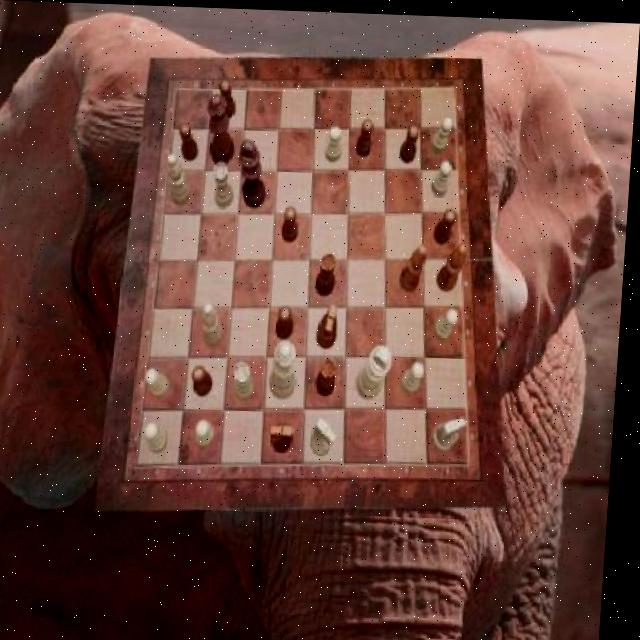bishop: (440, 240, 471, 290), (402, 241, 431, 290)
black-bishop: (238, 138, 272, 206)
black-king: (319, 301, 342, 347), (275, 422, 300, 451)
black-knight: (178, 121, 200, 160), (218, 78, 238, 118), (437, 206, 459, 242), (401, 121, 421, 160), (355, 117, 374, 156), (196, 363, 218, 395), (279, 304, 298, 339), (283, 204, 302, 239)
black-pawn: (206, 92, 240, 166)
black-queen: (318, 250, 339, 294), (320, 356, 342, 395)
black-rook: (168, 153, 196, 204), (204, 300, 229, 346)
white-bishop: (360, 340, 398, 396)
white-king: (436, 412, 472, 451), (316, 415, 342, 453)
white-knight: (437, 305, 463, 339), (405, 357, 429, 392), (431, 113, 453, 151), (432, 157, 454, 194), (149, 368, 175, 398), (149, 421, 174, 452), (326, 123, 345, 158), (200, 417, 221, 445)
white-pawn: (274, 338, 304, 397)
white-queen: (213, 161, 238, 207), (237, 360, 260, 399)
